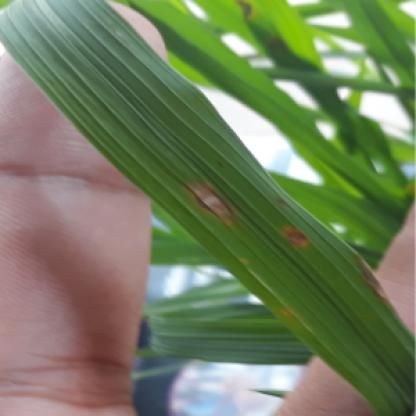Rice blast: (188, 176, 241, 231), (279, 218, 319, 258)
